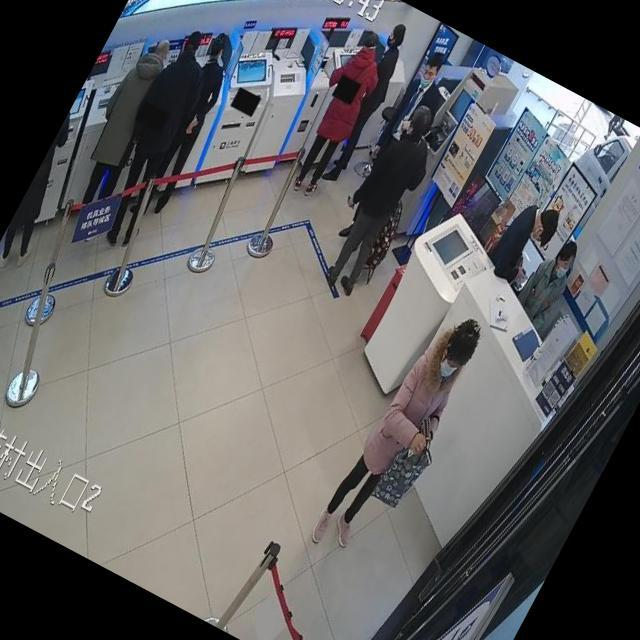person: (307, 295, 493, 568), (75, 20, 234, 252), (308, 100, 450, 306), (331, 51, 458, 246), (126, 29, 251, 220), (58, 31, 184, 216), (276, 23, 398, 202), (313, 20, 419, 187), (0, 103, 101, 275), (381, 51, 461, 158), (482, 191, 565, 291), (510, 231, 586, 327)
